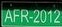character: (20, 8, 29, 23), (4, 8, 13, 22), (53, 8, 61, 23), (13, 8, 20, 23), (33, 8, 40, 23), (40, 9, 46, 23), (47, 9, 53, 23)
